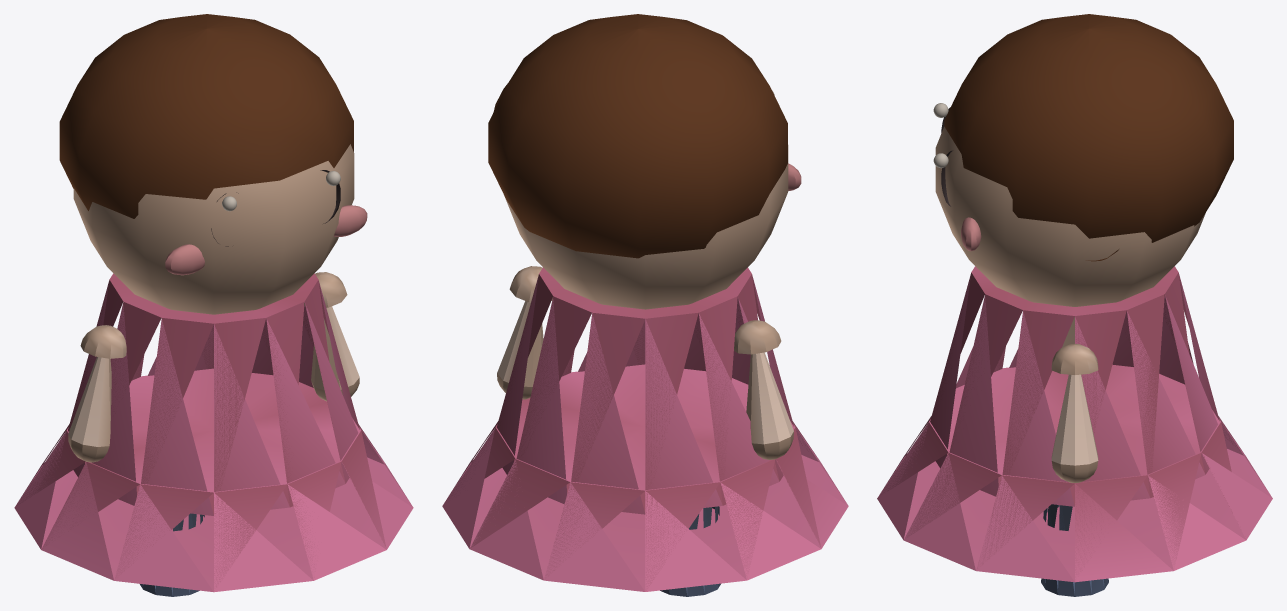
The model's file is p4db9dce8.glb.
3 views of the same model, side by side, from view 1: azimuth 30°, elevation 25°; view 2: azimuth 150°, elevation 25°; view 3: azimuth 270°, elevation 25° (orthographic). The views are drawn at different scales.
Parts seen in each view (by area): view 1: pet_p4db9dce8; view 2: pet_p4db9dce8; view 3: pet_p4db9dce8.
Part boxes in pixels (box(x1,y1,x2,y2)): pet_p4db9dce8: box(14, 14, 413, 596); pet_p4db9dce8: box(442, 14, 848, 596); pet_p4db9dce8: box(877, 14, 1272, 596).
Bounding box in the file's own units: 0.42 × 0.625 × 0.42.
